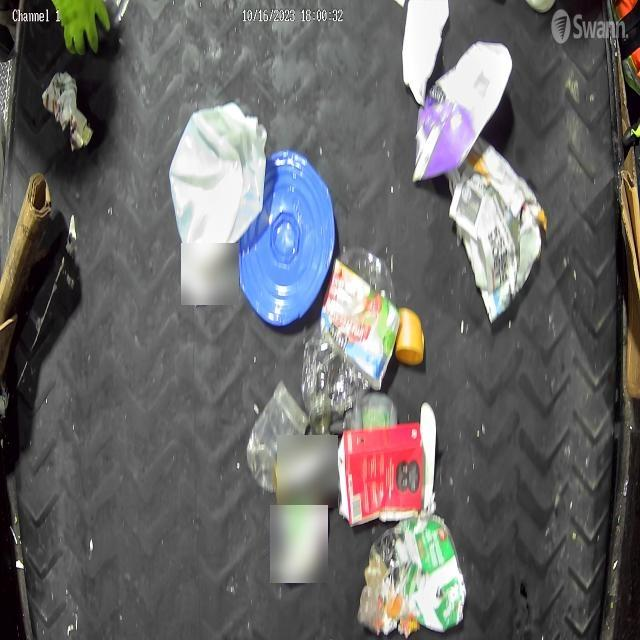milk_jug: (168, 101, 268, 271)
non_white_jug: (412, 40, 512, 184), (337, 401, 437, 528)
